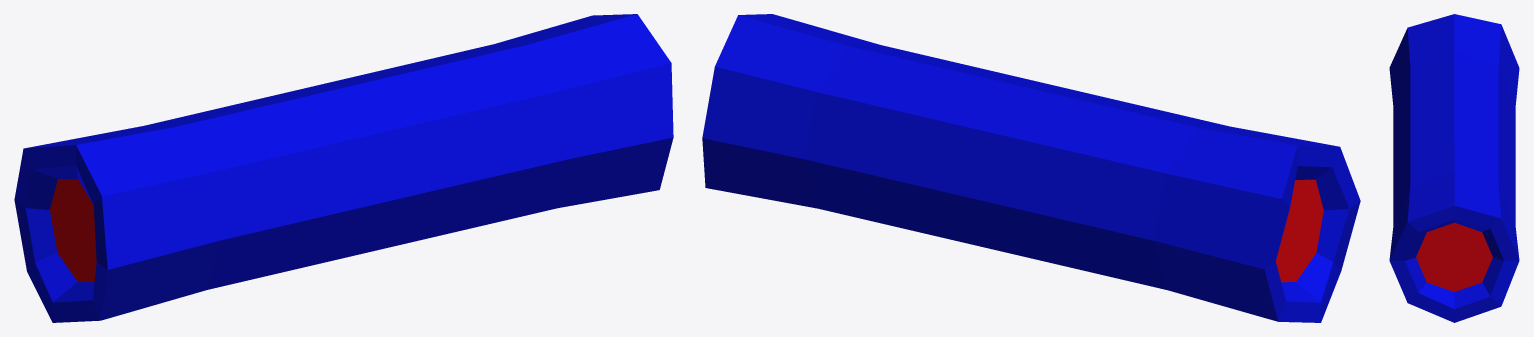
File: SM_Short_Log1.fbx
3 views of the same model, side by side, from view 1: azimuth 30°, elevation 25°; view 2: azimuth 150°, elevation 25°; view 3: azimuth 270°, elevation 25° (orthographic). The views are drawn at different scales.
Visible parts, largest first — view 1: SM_Short_Log1; view 2: SM_Short_Log1; view 3: SM_Short_Log1.
Boxes of the visible parts, box(x1,y1,x2,y2) form: SM_Short_Log1: box(14, 14, 673, 322); SM_Short_Log1: box(702, 14, 1360, 322); SM_Short_Log1: box(1389, 14, 1519, 322).
Bounding box in the file's own units: 71.89 × 20.9 × 20.21.
